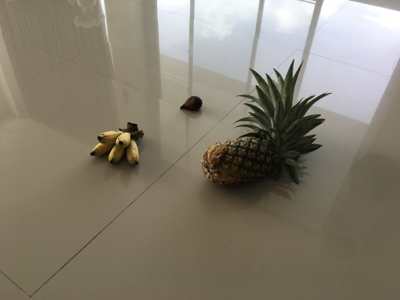banana: (90, 122, 145, 169)
pineapple: (203, 60, 332, 189)
snake fruit: (179, 95, 206, 113)
